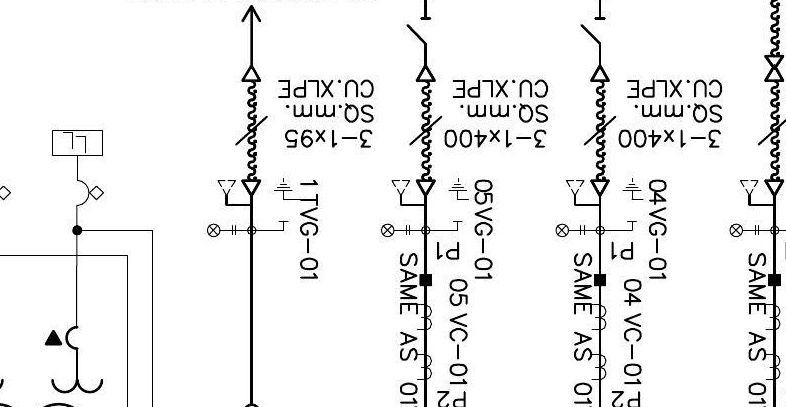22_gs: (274, 178, 302, 224), (621, 178, 645, 224), (448, 178, 471, 224)
22_ll: (729, 223, 760, 238), (555, 223, 586, 238), (380, 223, 411, 238), (206, 223, 237, 238)
LL: (50, 128, 104, 157)
terminator_single: (240, 65, 262, 83), (415, 65, 437, 83), (589, 65, 611, 83)
terminator_splicing_kits: (764, 55, 785, 83)
terminator_w_future: (738, 178, 785, 208), (391, 178, 438, 208), (216, 178, 263, 208), (564, 179, 611, 208)
